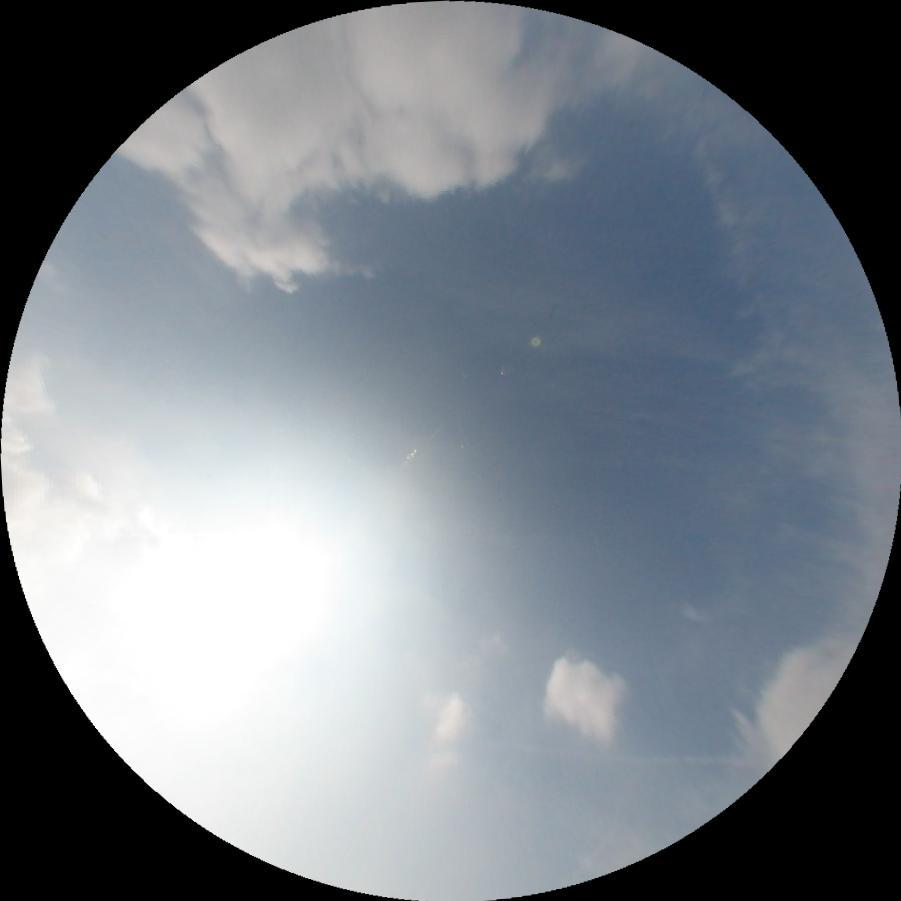contrail old: (483, 736, 757, 769)
sun: (82, 522, 345, 729)
